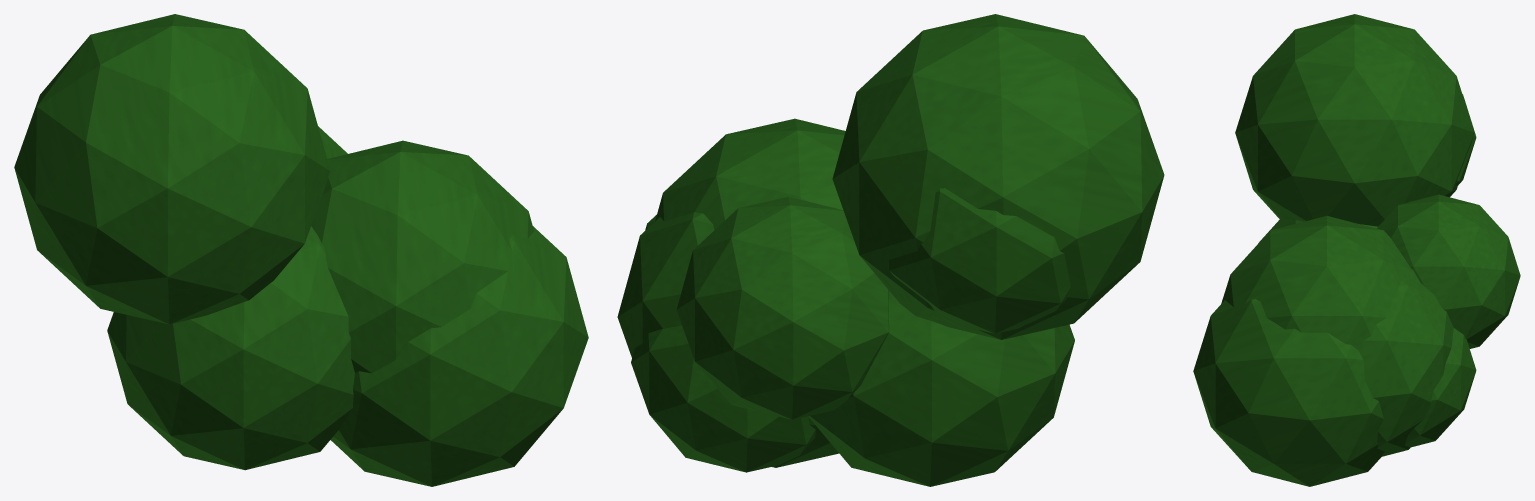
File: krzak_r0_02.glb
3 views of the same model, side by side, from view 1: azimuth 30°, elevation 25°; view 2: azimuth 150°, elevation 25°; view 3: azimuth 270°, elevation 25° (orthographic). The views are drawn at different scales.
Parts seen in each view (by area): view 1: leaf_1, leaf_0, leaf_5, leaf_3; view 2: leaf_1, leaf_7, leaf_5, leaf_6, leaf_2, leaf_3, leaf_4; view 3: leaf_1, leaf_0, leaf_3, leaf_7, leaf_4, leaf_2.
Part boxes in pixels (<box>): leaf_1: <box>14,14,330,324</box>; leaf_0: <box>330,226,588,486</box>; leaf_5: <box>107,226,354,470</box>; leaf_3: <box>311,140,534,373</box>; leaf_1: <box>832,14,1164,339</box>; leaf_7: <box>676,196,889,419</box>; leaf_5: <box>808,291,1074,486</box>; leaf_6: <box>887,188,1070,333</box>; leaf_2: <box>631,325,815,472</box>; leaf_3: <box>655,118,845,229</box>; leaf_4: <box>617,212,838,467</box>; leaf_1: <box>1235,14,1474,226</box>; leaf_0: <box>1193,299,1384,486</box>; leaf_3: <box>1221,216,1419,349</box>; leaf_7: <box>1377,194,1520,348</box>; leaf_4: <box>1358,278,1453,456</box>; leaf_2: <box>1405,328,1476,447</box>.
Size of the model in its own units: 1.82 by 1.67 by 1.35.
1 material, 1 textured.
